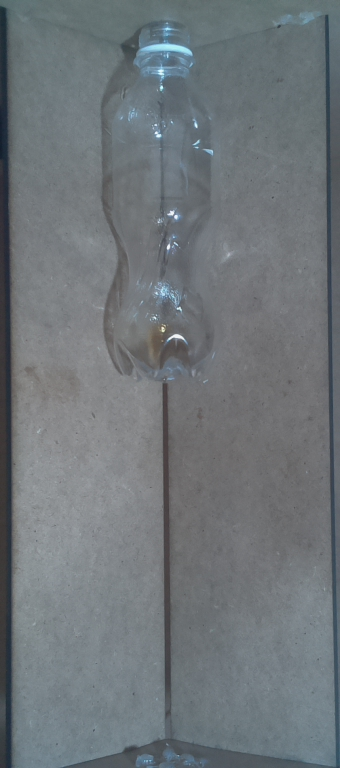Bouteille_0.3L: (101, 22, 223, 385)
